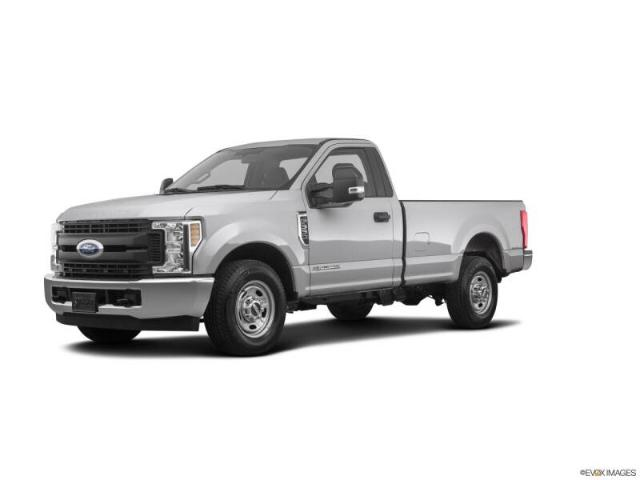pickup-truck: (43, 137, 534, 356)
